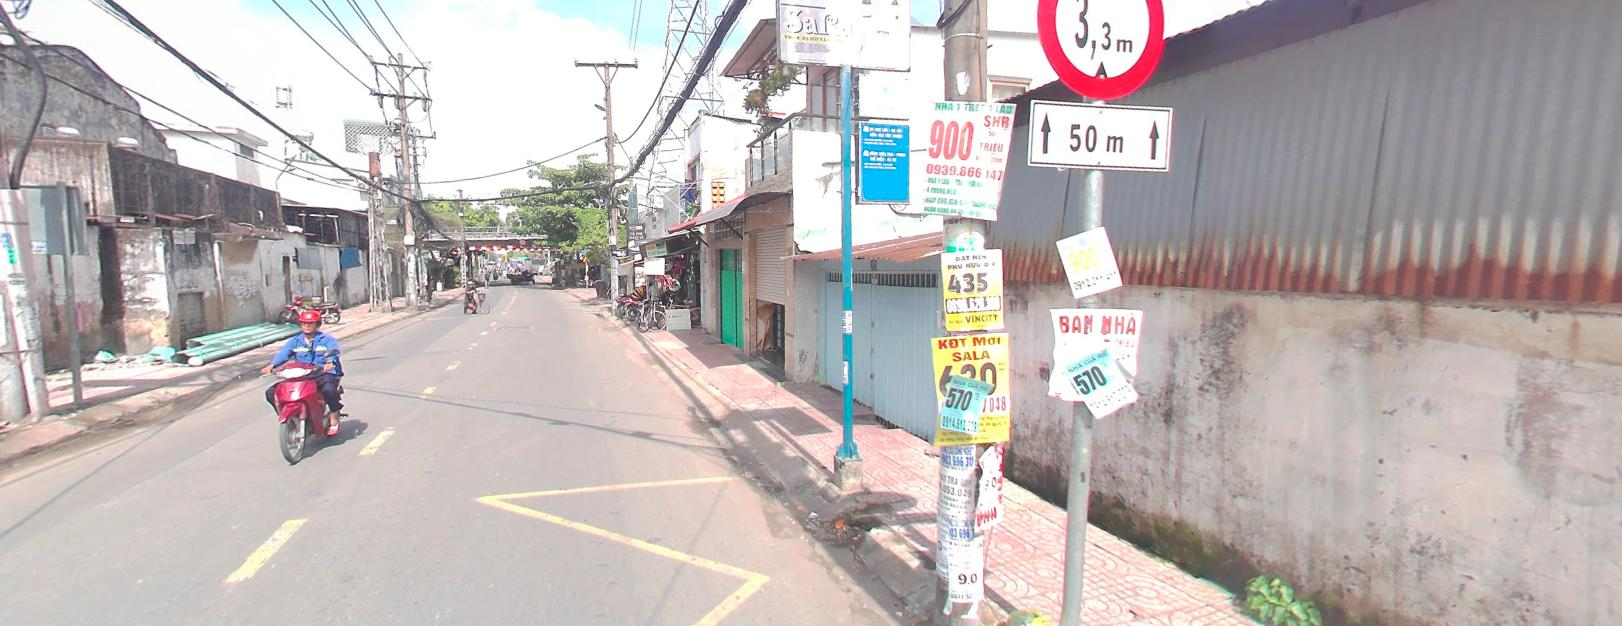Cam con lai: (1035, 0, 1167, 100), (1032, 1, 1167, 96), (1037, 0, 1165, 99), (519, 238, 525, 244), (519, 237, 525, 243)
Nguy hiem: (581, 254, 591, 261), (581, 254, 589, 260), (582, 254, 590, 260)
